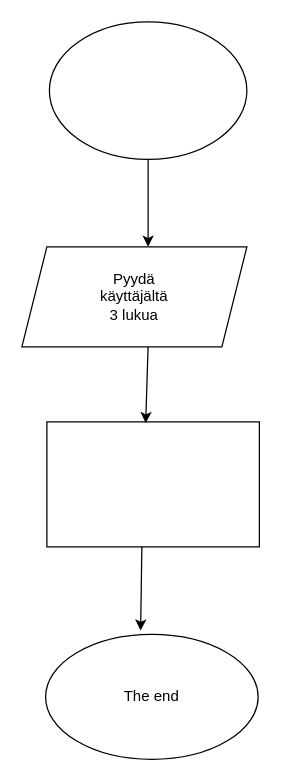
The diagram is 281 pixels wide and 781 high, and some of its shapes have lost their labels. Each missing label, with the centre of its shape:
Aloitus HTML: the point at 147,90
Aseta luvut suuruusjärjestykseen: the point at 152,484
